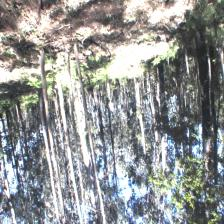trunktrack_idkeyframe: (196, 45, 212, 129), (72, 44, 88, 111), (38, 51, 52, 127)
